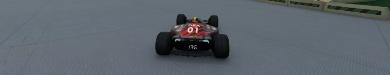Car: (154, 13, 229, 58)
curve: (0, 0, 389, 74)
obstacles-Borders: (252, 0, 389, 21)
